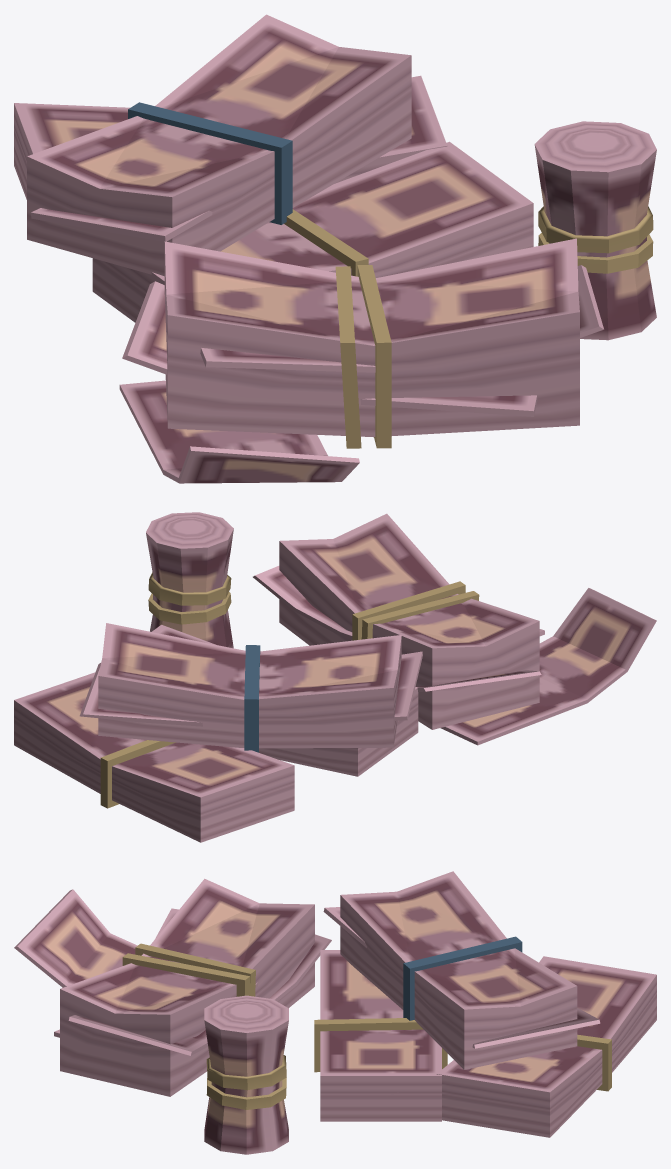
Rendered from SM_Prop_Money_Stack_03.glb.
3 views of the same model, one above another, from view 1: azimuth 30°, elevation 25°; view 2: azimuth 150°, elevation 25°; view 3: azimuth 270°, elevation 25° (orthographic). The views are drawn at different scales.
Visible parts, largest first — view 1: SM_Prop_Money_Stack_03; view 2: SM_Prop_Money_Stack_03; view 3: SM_Prop_Money_Stack_03.
Part boxes in pixels (x1,y1,x2,y2): SM_Prop_Money_Stack_03: (14,14,656,483); SM_Prop_Money_Stack_03: (14,512,656,842); SM_Prop_Money_Stack_03: (14,871,656,1154).
Size of the model in its own units: 0.4445 by 0.1272 by 0.5894.
1 material, 1 textured.
